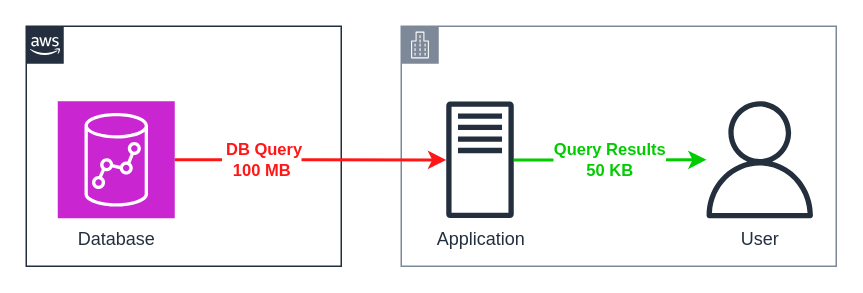
This 863x293 diagram has some shape labels left out. The shapes that lost their labels are listed below. From the top down, each one's box as (x1, y1, x2, y2) in pixels, then its label:
(25, 25, 341, 266): AWS Cloud
(400, 25, 836, 266): Corporate data center
